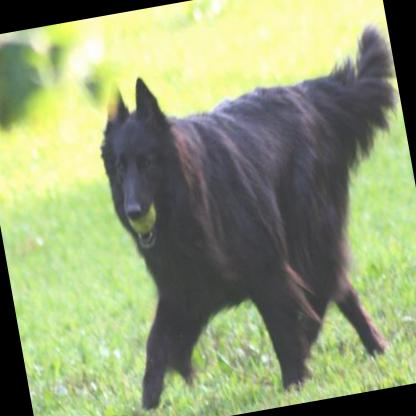groenendael: (81, 20, 416, 416)
